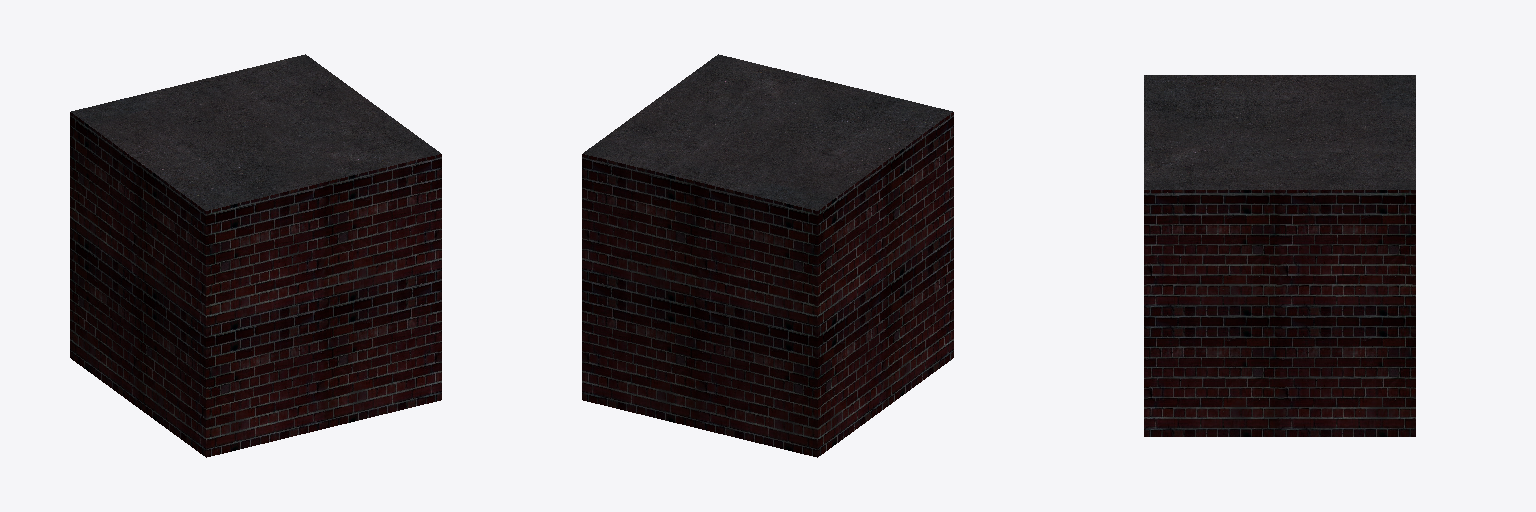
3 views of the same model, side by side, from view 1: azimuth 30°, elevation 25°; view 2: azimuth 150°, elevation 25°; view 3: azimuth 270°, elevation 25° (orthographic).
Parts seen in each view (by area): view 1: Plane.002, Plane.003, Plane; view 2: Plane.001, Plane.003, Plane; view 3: Plane.004, Plane.
Boxes of the visible parts, box(x1,y1,x2,y2) form: Plane.002: box(206, 154, 441, 457); Plane.003: box(70, 112, 205, 456); Plane: box(71, 54, 440, 210); Plane.001: box(582, 154, 817, 457); Plane.003: box(818, 112, 953, 456); Plane: box(583, 54, 952, 210); Plane.004: box(1144, 190, 1415, 436); Plane: box(1144, 75, 1415, 189).
Size of the model in its own units: 20 by 20 by 20.
Materials: 2 (2 with a texture image).